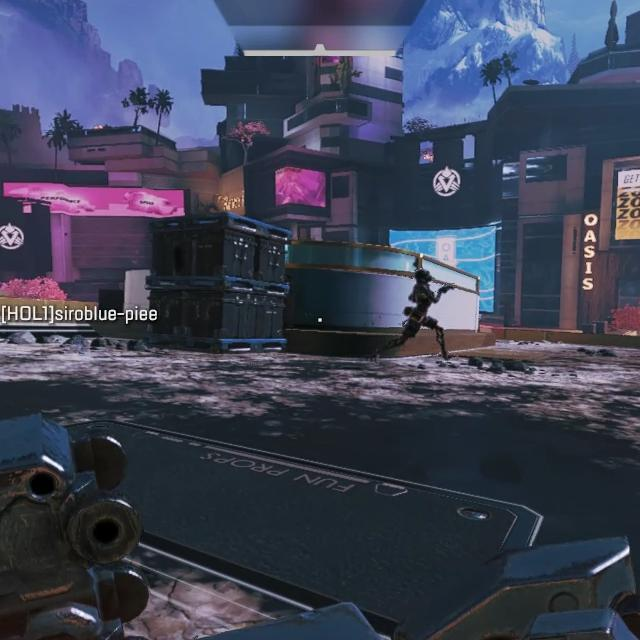avatar: (397, 267, 449, 362)
